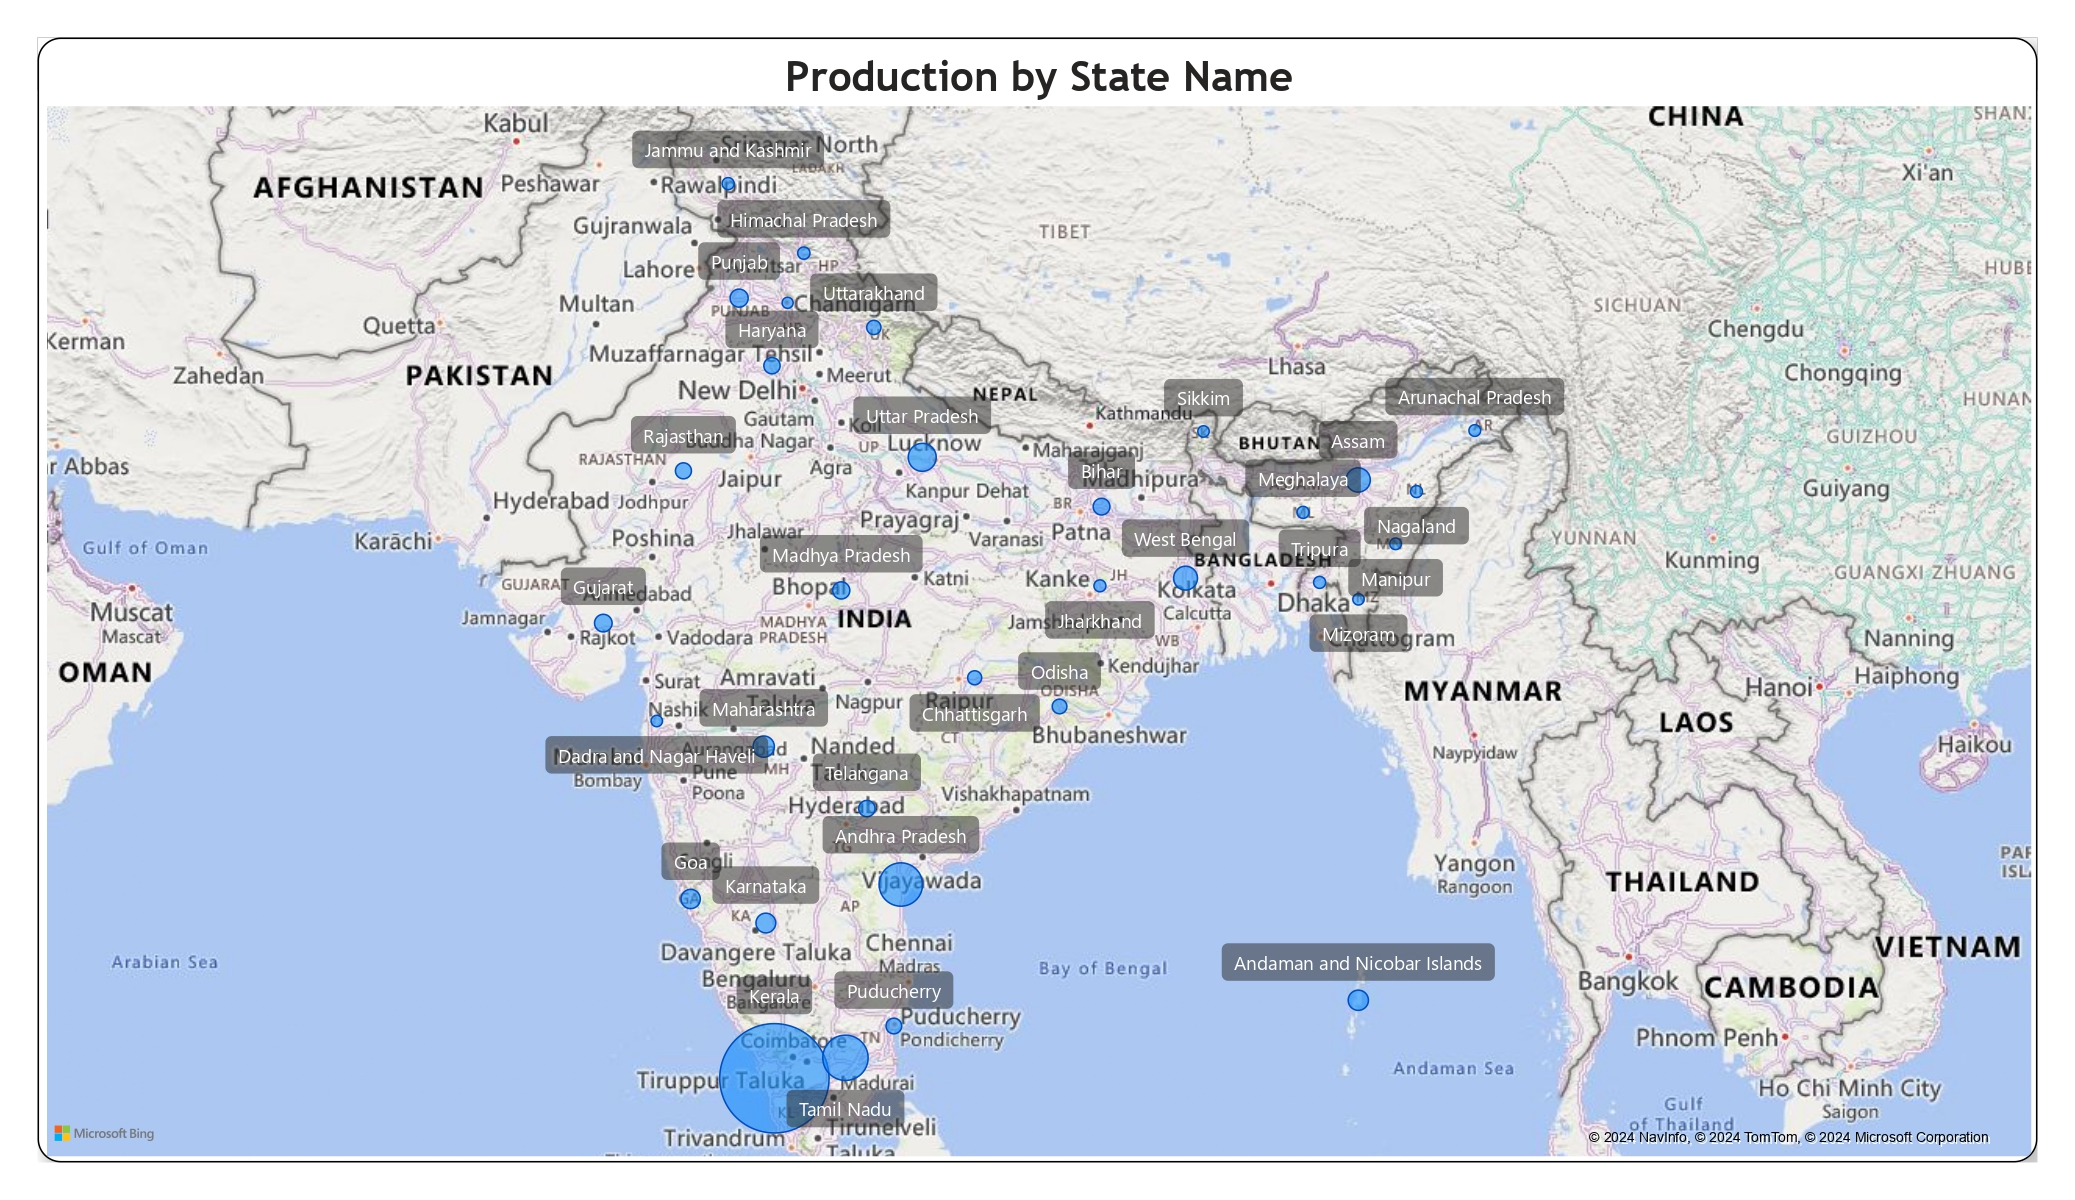

This screenshot's page, from the dashboard's own definition file:
{"tool":"powerbi","page":{"name":"Production ","canvas":[1280,720],"ordinal":1},"visuals":[{"type":"map","title":"Production by State Name","fields":{"Category":["apy_1.State_Name"],"Size":["apy_1.total production"]},"box":[0,0,1280,720],"z":0}]}

Visuals, with their boxes on the page's 1280x720 design canvas (x1, y1, x2, y2). These are canvas units, not pixel positions in the 2075x1200 screenshot, which may show the page scaled, cropped or inside an application window:
"Production by State Name" map: x1=0 y1=0 x2=1280 y2=720
